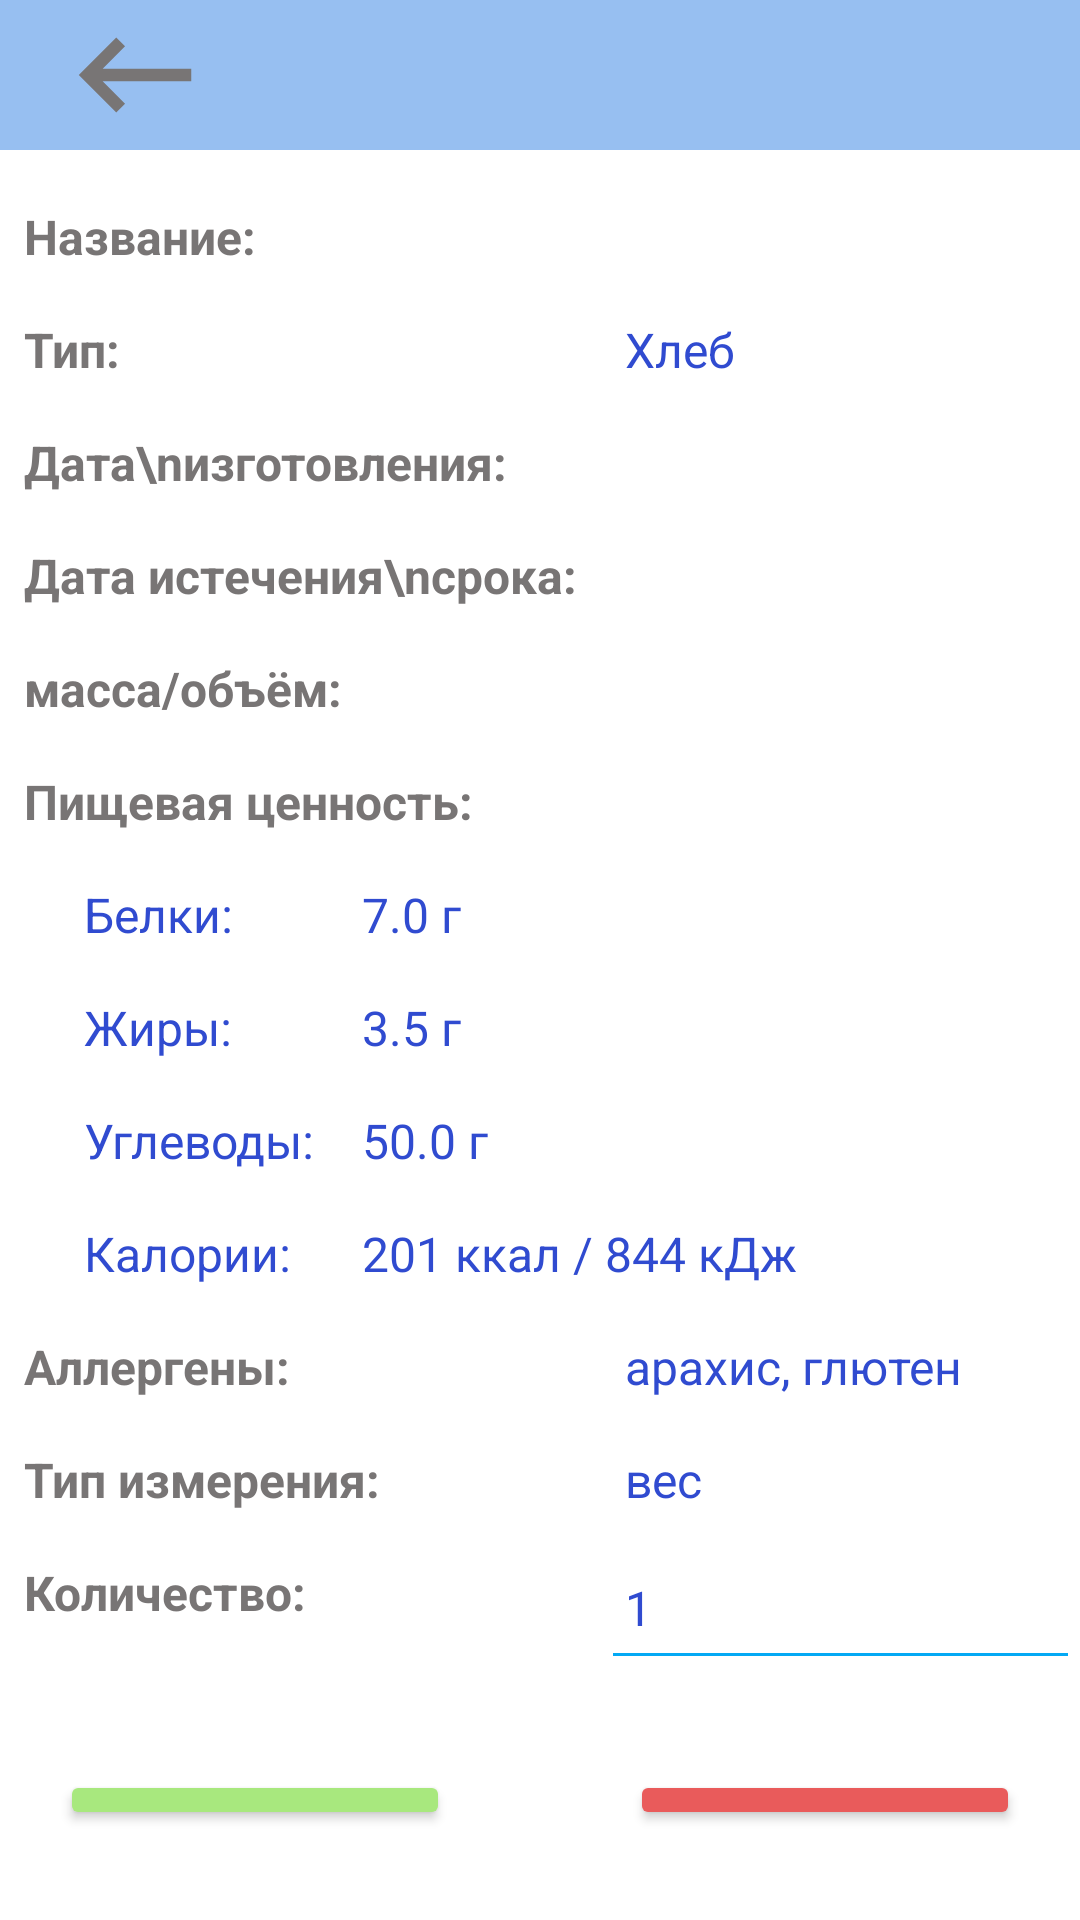

Where icons sit on this 1080*1920 app screen, as (left=x1, top=y1, right=x2, bottom=y2):
Закрыть: (left=79, top=37, right=192, bottom=113)
